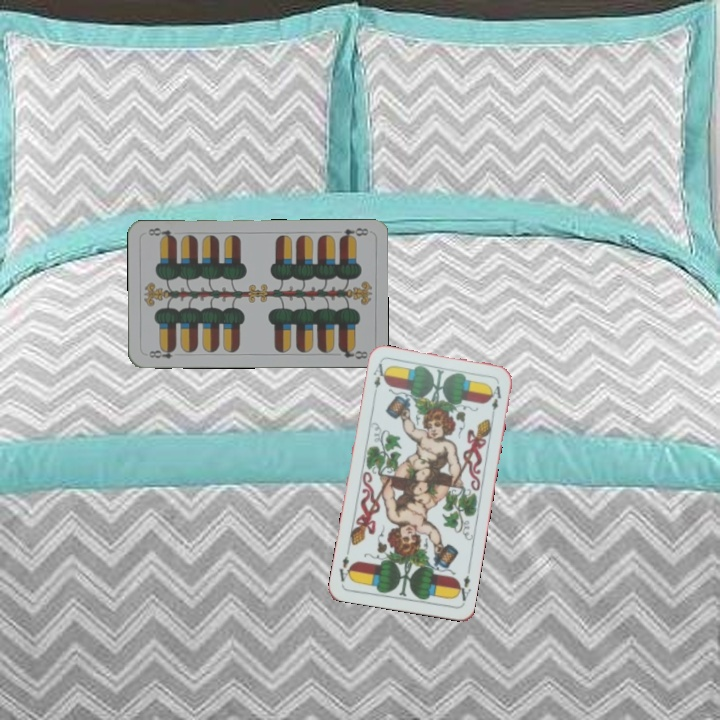E8: (335, 224, 371, 242), (143, 344, 178, 361)
EA: (452, 565, 473, 605), (369, 359, 388, 390)
